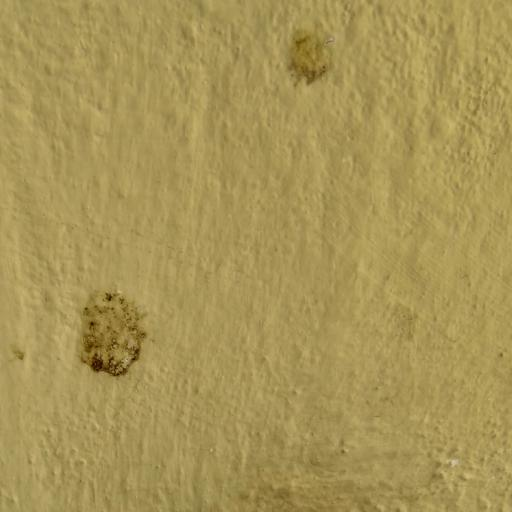stain: (54, 273, 178, 386), (274, 16, 356, 104), (0, 334, 46, 381)
